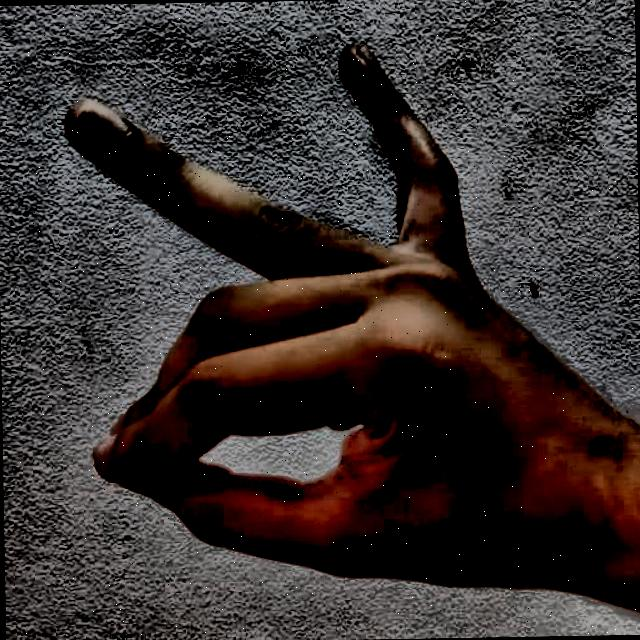Na: (44, 13, 581, 620)
